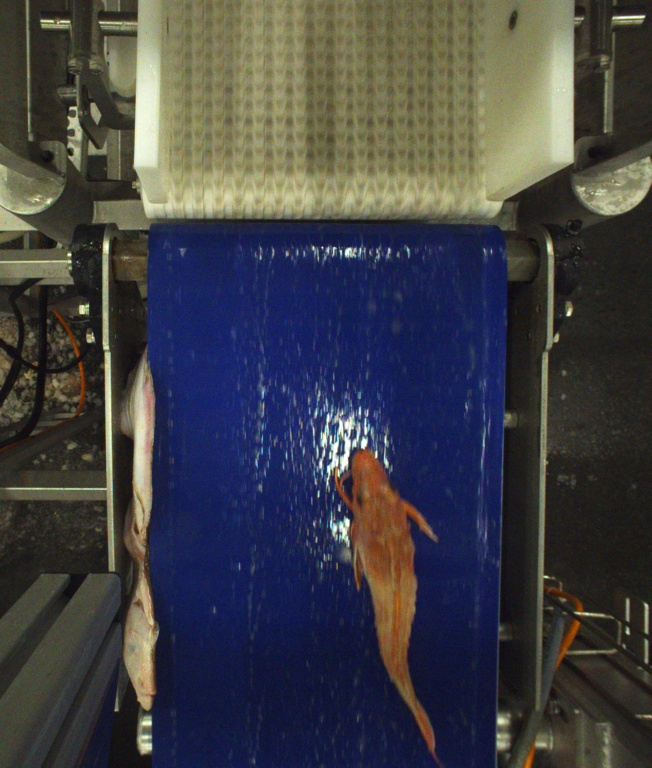GUU: (333, 448, 440, 757)
